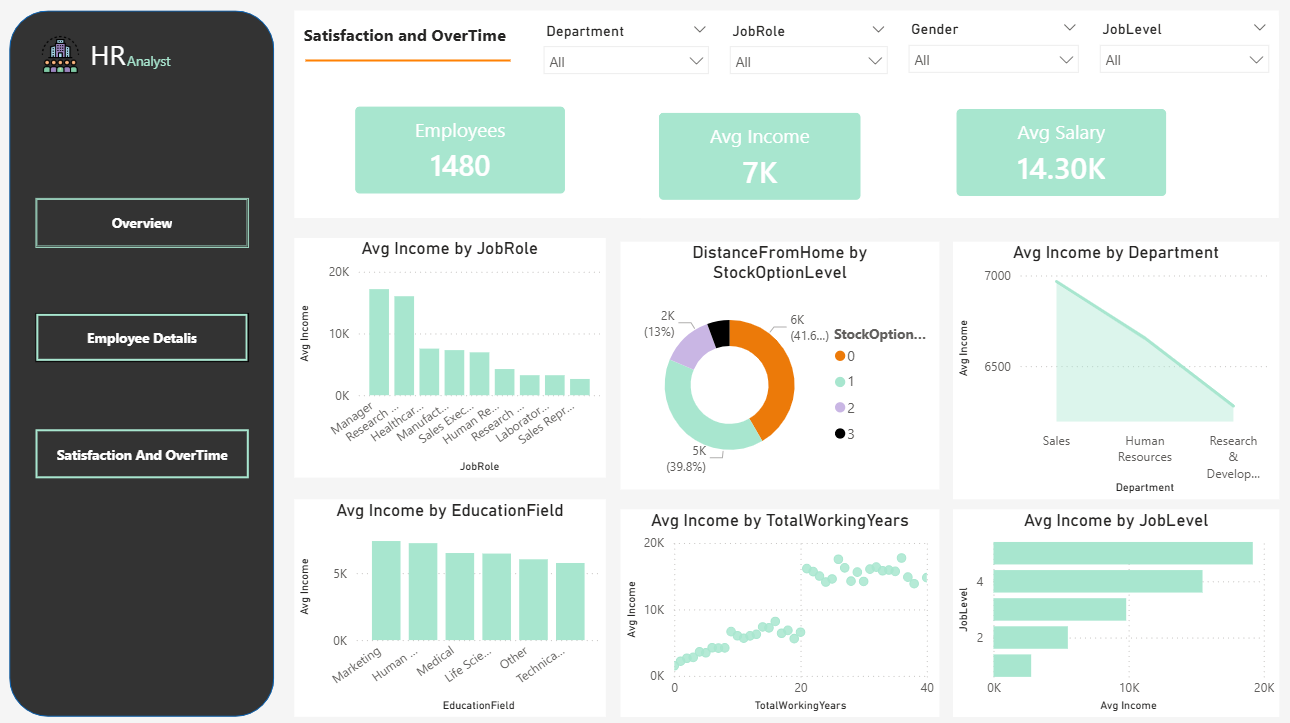

The page's visual inventory and layout, read from the dashboard file:
{"tool":"powerbi","page":{"name":"Page 3","canvas":[1280,720],"ordinal":2},"visuals":[{"type":"shape","box":[299.6,17.1,963.6,203],"z":0},{"type":"shape","box":[20.8,17.1,259.2,690.9],"z":1000},{"type":"slicer","fields":{"Values":["HR_Analytics.Department"]},"box":[533.2,23.2,182.2,68.5],"z":2000},{"type":"slicer","fields":{"Values":["HR_Analytics.Gender"]},"box":[890.2,22,187.1,74.6],"z":3000},{"type":"slicer","fields":{"Values":["HR_Analytics.JobRole"]},"box":[715.4,23.2,174.9,72.1],"z":4000},{"type":"image","box":[20.9,41.7,100.2,37.6],"z":5000},{"type":"textbox","box":[28,37,185.9,57.5],"z":6000},{"type":"textbox","box":[131,53,91.7,37.9],"z":7000},{"type":"actionButton","box":[45.9,200.3,208.7,48.7],"z":8000},{"type":"actionButton","box":[45.9,313,208.7,48],"z":9000},{"type":"actionButton","box":[45.9,427.1,208.7,48],"z":10000},{"type":"textbox","box":[302,24,211.6,55],"z":11000},{"type":"shape","box":[310.6,31.8,200.5,68.5],"z":12000},{"type":"cardVisual","fields":{"Data":["HR_Analytics.Employees"]},"box":[342.4,94.2,239.7,119.8],"z":13000},{"type":"cardVisual","fields":{"Data":["HR_Analytics.ToTal Income"]},"box":[639.5,100.3,231.1,119.8],"z":14000},{"type":"cardVisual","fields":{"Data":["HR_Analytics.Avg Salary"]},"box":[930.6,96.6,239.7,119.8],"z":15000},{"type":"slicer","fields":{"Values":["HR_Analytics.JobLevel"]},"box":[1077.3,22,185.9,72.1],"z":16000},{"type":"columnChart","fields":{"Y":["HR_Analytics.Avg Income"],"Category":["HR_Analytics.JobRole"]},"box":[299.6,239.7,304.5,234.8],"z":17000},{"type":"barChart","fields":{"Y":["HR_Analytics.Avg Income"],"Category":["HR_Analytics.JobLevel"]},"box":[944,505,319.2,203],"z":18000},{"type":"areaChart","fields":{"Category":["HR_Analytics.Department"],"Y":["HR_Analytics.Avg Income"]},"box":[944,243.3,319.2,251.9],"z":19000},{"type":"scatterChart","fields":{"Y":["HR_Analytics.Avg Income"],"X":["HR_Analytics.TotalWorkingYears"]},"box":[618.8,505,311.8,203],"z":20000},{"type":"columnChart","fields":{"Y":["HR_Analytics.Avg Income"],"Category":["HR_Analytics.EducationField"]},"box":[299.6,495.2,304.5,212.8],"z":21000},{"type":"donutChart","title":"DistanceFromHome by StockOptionLevel","fields":{"Y":["Sum(HR_Analytics.DistanceFromHome)"],"Category":["HR_Analytics.StockOptionLevel"]},"box":[618.8,243.3,311.8,242.1],"z":22000}]}

Visuals, with their boxes in screenshot pixels (x1, y1, x2, y2), scaled from the page's 1280x720 canvas onto the 1290x723 screenshot:
shape: BBox(302, 17, 1273, 221)
shape: BBox(21, 17, 282, 711)
slicer - HR_Analytics.Department: BBox(537, 23, 721, 92)
slicer - HR_Analytics.Gender: BBox(897, 22, 1086, 97)
slicer - HR_Analytics.JobRole: BBox(721, 23, 897, 96)
image: BBox(21, 42, 122, 80)
textbox: BBox(28, 37, 216, 95)
textbox: BBox(132, 53, 224, 91)
actionButton: BBox(46, 201, 257, 250)
actionButton: BBox(46, 314, 257, 363)
actionButton: BBox(46, 429, 257, 477)
textbox: BBox(304, 24, 518, 79)
shape: BBox(313, 32, 515, 101)
cardVisual - HR_Analytics.Employees: BBox(345, 95, 587, 215)
cardVisual - HR_Analytics.ToTal Income: BBox(644, 101, 877, 221)
cardVisual - HR_Analytics.Avg Salary: BBox(938, 97, 1179, 217)
slicer - HR_Analytics.JobLevel: BBox(1086, 22, 1273, 94)
columnChart - HR_Analytics.Avg Income x HR_Analytics.JobRole: BBox(302, 241, 609, 476)
barChart - HR_Analytics.Avg Income x HR_Analytics.JobLevel: BBox(951, 507, 1273, 711)
areaChart - HR_Analytics.Department x HR_Analytics.Avg Income: BBox(951, 244, 1273, 497)
scatterChart - HR_Analytics.Avg Income x HR_Analytics.TotalWorkingYears: BBox(624, 507, 938, 711)
columnChart - HR_Analytics.Avg Income x HR_Analytics.EducationField: BBox(302, 497, 609, 711)
"DistanceFromHome by StockOptionLevel" donutChart: BBox(624, 244, 938, 487)
